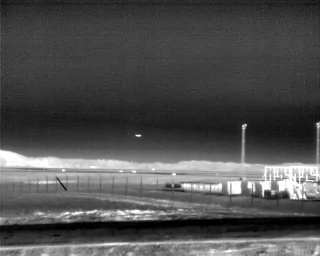AIRPLANE: (133, 131, 143, 140)
